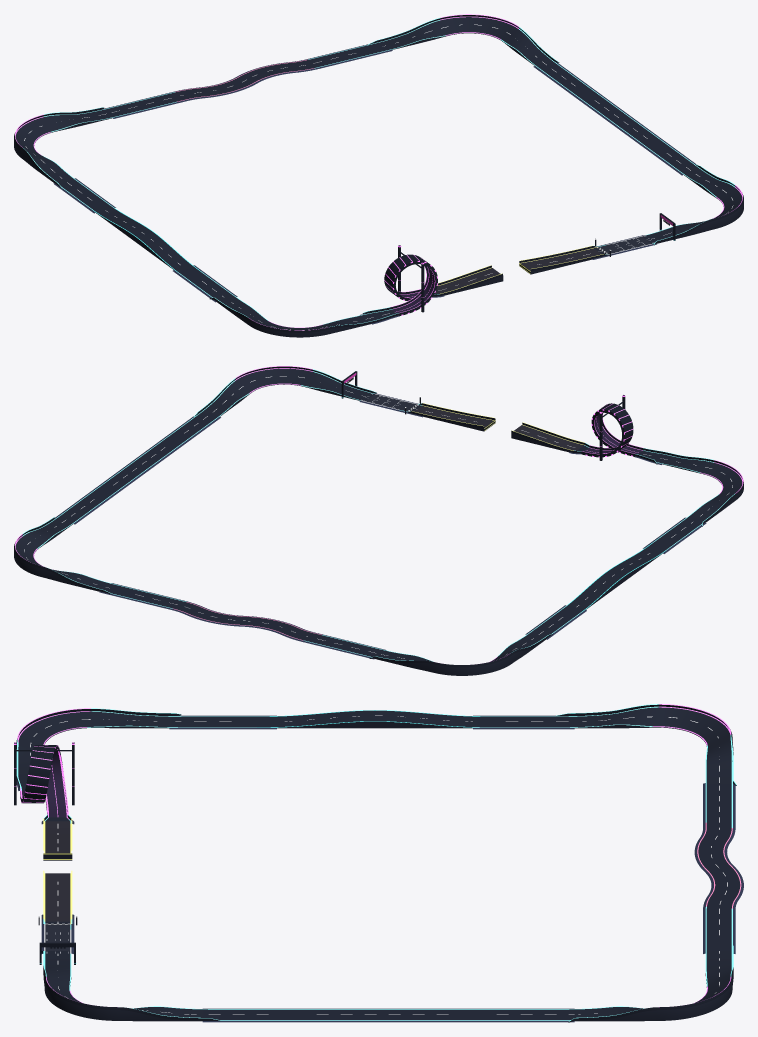
3 views of the same model, one above another, from view 1: azimuth 30°, elevation 25°; view 2: azimuth 150°, elevation 25°; view 3: azimuth 270°, elevation 25° (orthographic). The views are drawn at different scales.
Visible parts, largest first — view 1: arcade_circuit.lod1; view 2: arcade_circuit.lod1; view 3: arcade_circuit.lod1.
Part boxes in pixels (x1=…): arcade_circuit.lod1: x1=14, y1=14, x2=743, y2=337; arcade_circuit.lod1: x1=14, y1=366, x2=743, y2=675; arcade_circuit.lod1: x1=14, y1=704, x2=743, y2=1022.
Bounding box in the file's own units: 242 × 22.76 × 242.
